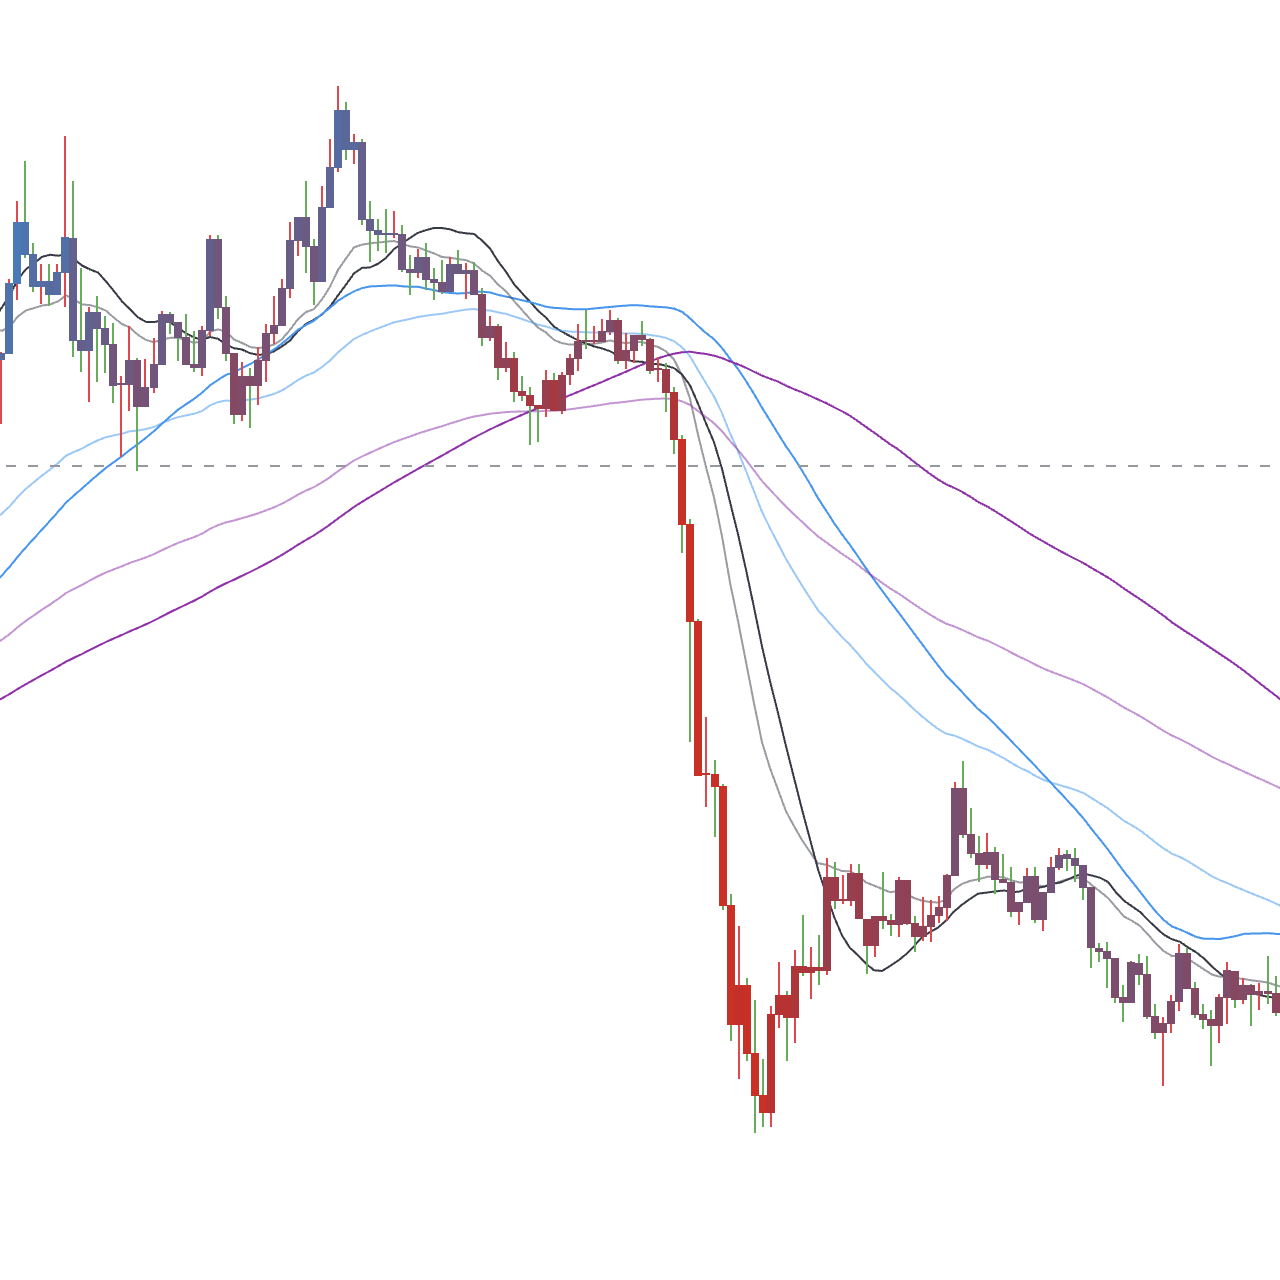ma_cluster: (509, 288, 736, 463)
